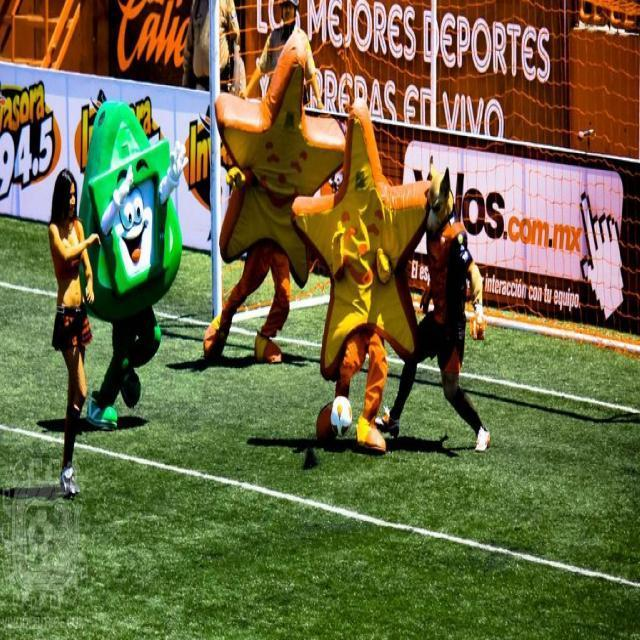football: (311, 389, 368, 442)
